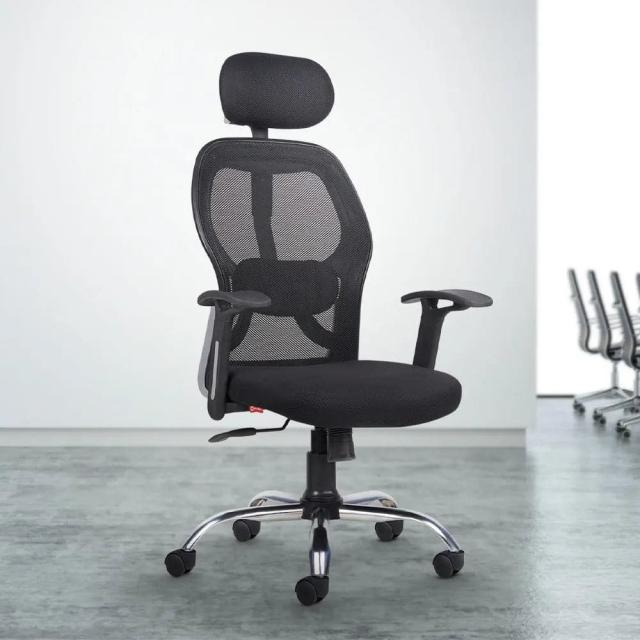chair: (164, 50, 494, 606)
